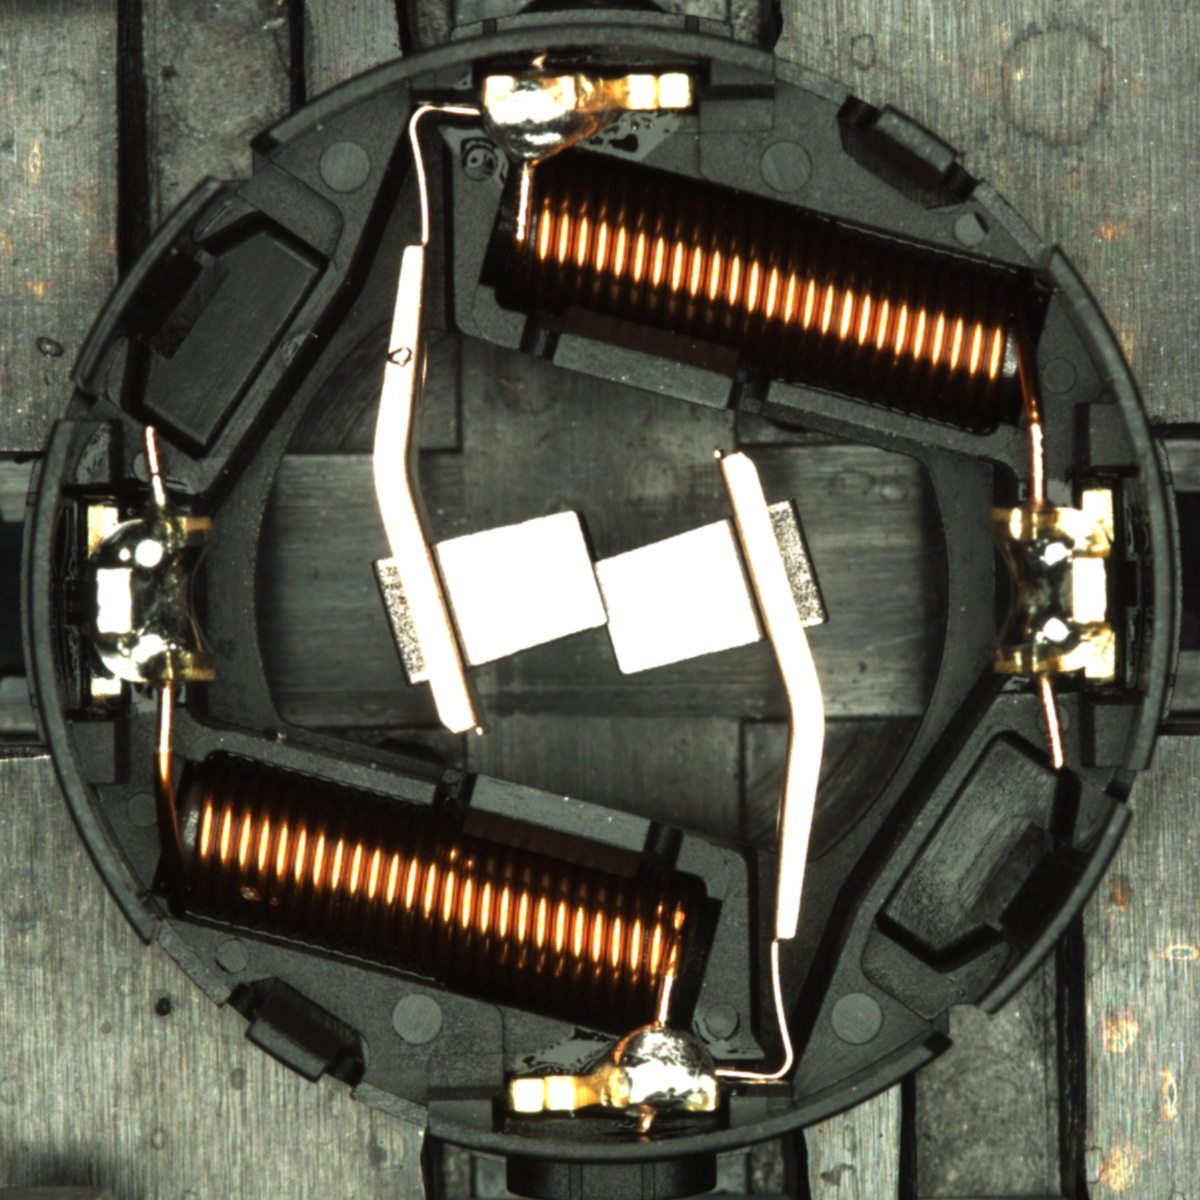1: (253, 31, 482, 255), (711, 929, 940, 1153)
2: (711, 31, 940, 255), (253, 929, 482, 1153)
3: (23, 255, 253, 480), (940, 704, 1170, 929)
4: (253, 255, 482, 480), (711, 704, 940, 929)
5: (482, 143, 711, 368), (482, 816, 711, 1041)
6: (711, 255, 940, 480), (253, 704, 482, 929)
7: (940, 255, 1170, 480), (23, 704, 253, 929)
cacbon: (393, 498, 800, 686)
chau_dien: (80, 498, 221, 699), (984, 488, 1123, 686)
tay_choi: (480, 68, 697, 168), (508, 1018, 721, 1117)
thanh_de: (953, 786, 1140, 1030), (58, 163, 244, 404)
vun_chi: (386, 345, 414, 368)
